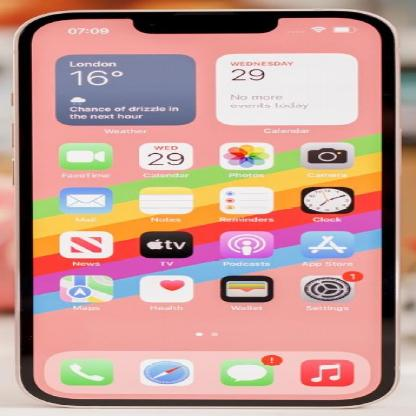SMARTPHONE: (17, 5, 405, 411)
